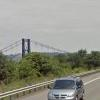Car: (41, 68, 93, 100)
